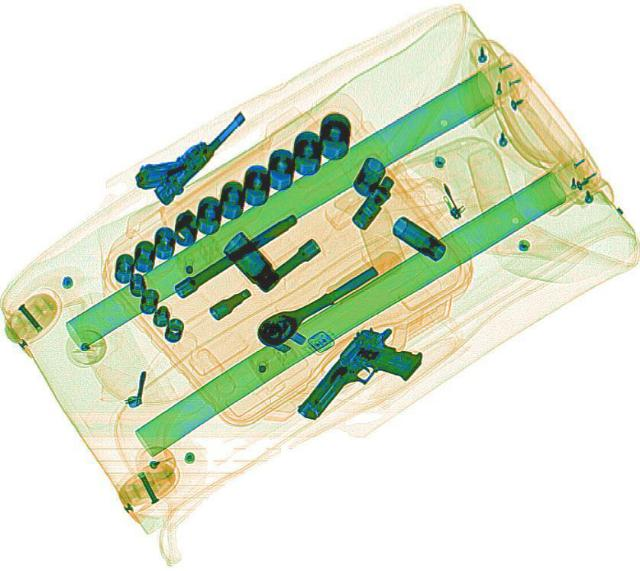Gun: (292, 315, 430, 442), (124, 91, 250, 208)
